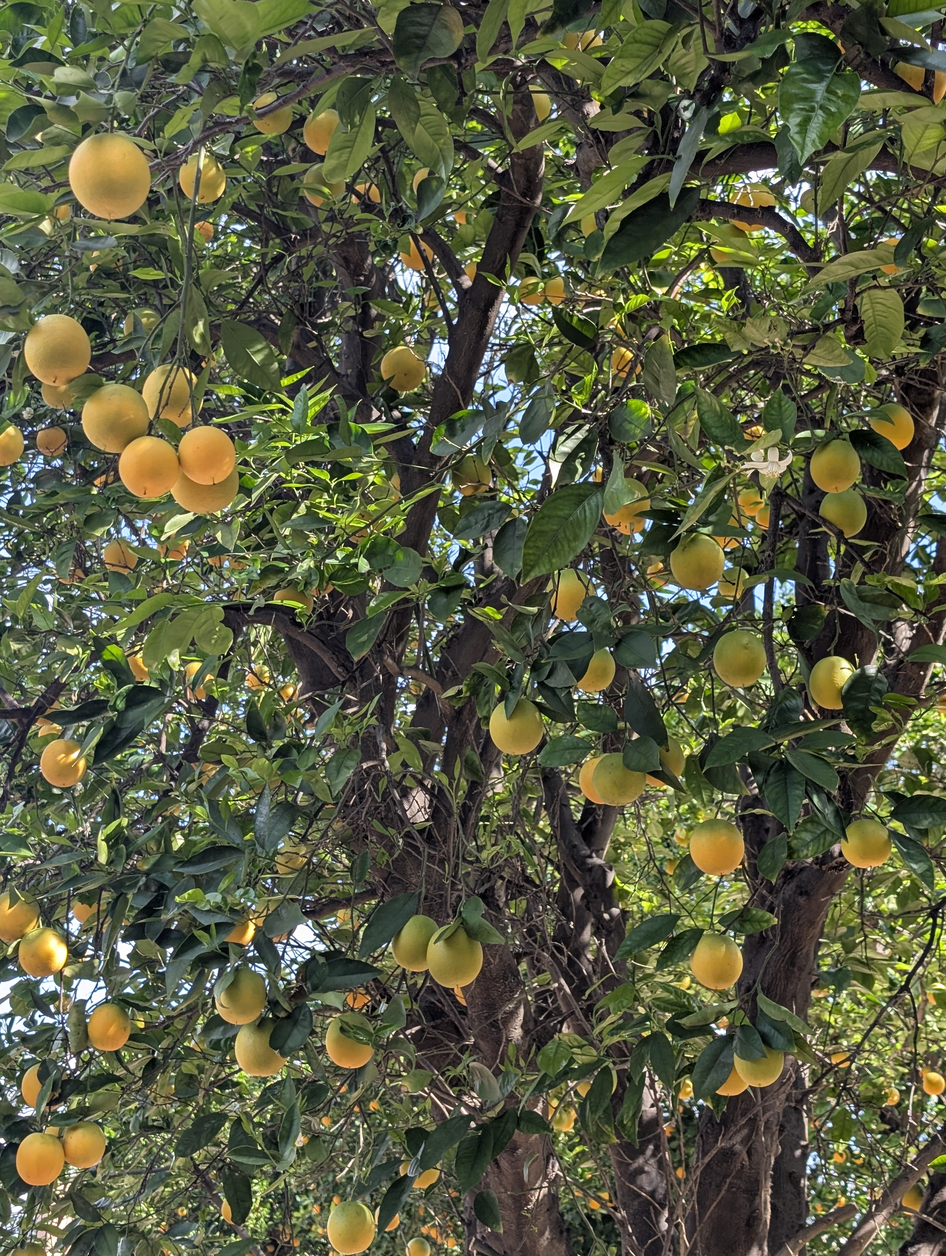orange: (69, 133, 151, 220), (23, 314, 91, 385), (82, 384, 149, 453), (119, 436, 180, 498), (143, 364, 197, 429), (427, 926, 483, 988), (178, 426, 236, 485), (171, 466, 239, 514), (669, 533, 724, 590), (214, 965, 266, 1025), (490, 698, 544, 755), (689, 820, 744, 875), (713, 630, 766, 687), (234, 1019, 286, 1077), (690, 934, 742, 990), (592, 753, 645, 806), (391, 915, 440, 972), (325, 1012, 374, 1069), (810, 439, 860, 493), (327, 1201, 376, 1256), (841, 819, 892, 868), (16, 1133, 64, 1185), (808, 656, 855, 709), (18, 928, 68, 977), (819, 488, 867, 537), (40, 739, 86, 787), (381, 345, 426, 392), (869, 403, 914, 450), (734, 1046, 784, 1088), (552, 568, 591, 621), (0, 890, 39, 943), (88, 1003, 131, 1051), (62, 1122, 106, 1168), (302, 164, 344, 207), (252, 92, 293, 135), (577, 648, 616, 692), (604, 498, 650, 534), (303, 109, 338, 155), (452, 455, 491, 496), (197, 150, 226, 203), (579, 756, 603, 804), (104, 540, 138, 573), (710, 225, 741, 261), (272, 586, 313, 613), (41, 380, 76, 410), (659, 737, 685, 777), (716, 1064, 748, 1096), (37, 426, 68, 458), (733, 185, 776, 208), (0, 425, 24, 466), (275, 845, 307, 875), (894, 61, 924, 91), (125, 308, 161, 333), (20, 1065, 41, 1107), (718, 568, 746, 599), (547, 1102, 576, 1131), (253, 896, 280, 927), (562, 30, 602, 50), (224, 920, 256, 945), (185, 662, 206, 699), (400, 240, 424, 272), (179, 155, 197, 197), (350, 521, 385, 542), (518, 278, 545, 305), (901, 1182, 924, 1213), (157, 539, 189, 561), (55, 564, 84, 588), (737, 491, 763, 517), (529, 86, 548, 120), (611, 347, 633, 376), (127, 653, 149, 682), (246, 664, 270, 690), (922, 1070, 946, 1096), (544, 276, 564, 304), (72, 902, 97, 924), (414, 1168, 440, 1188), (356, 183, 381, 203), (647, 562, 667, 587), (425, 1227, 452, 1245), (932, 70, 946, 104), (406, 1237, 431, 1256), (346, 990, 370, 1009), (413, 167, 430, 193), (194, 221, 214, 243), (200, 762, 222, 781), (386, 472, 400, 500), (732, 219, 762, 232), (831, 1049, 851, 1068), (93, 469, 114, 487), (8, 1245, 44, 1255), (756, 504, 769, 529), (52, 204, 71, 221), (744, 425, 765, 440), (279, 683, 296, 701), (671, 689, 689, 706), (884, 1087, 900, 1106), (39, 724, 62, 737), (575, 1080, 592, 1097), (612, 318, 629, 335), (715, 536, 737, 549), (424, 291, 439, 310), (453, 986, 467, 1006), (385, 1214, 400, 1231), (680, 1079, 693, 1098), (421, 242, 433, 262), (336, 907, 351, 923), (56, 996, 73, 1010), (464, 262, 477, 280), (646, 774, 664, 787), (313, 583, 334, 594), (222, 1201, 232, 1224), (208, 555, 227, 567), (880, 237, 900, 248), (880, 264, 900, 274), (399, 1158, 410, 1176), (45, 1125, 60, 1138), (453, 211, 467, 224), (273, 932, 289, 943), (592, 467, 603, 482), (588, 1197, 601, 1209), (46, 702, 61, 711), (729, 514, 740, 525), (600, 1190, 610, 1202), (35, 718, 49, 725), (666, 862, 676, 871), (675, 835, 689, 841), (681, 977, 689, 985)
